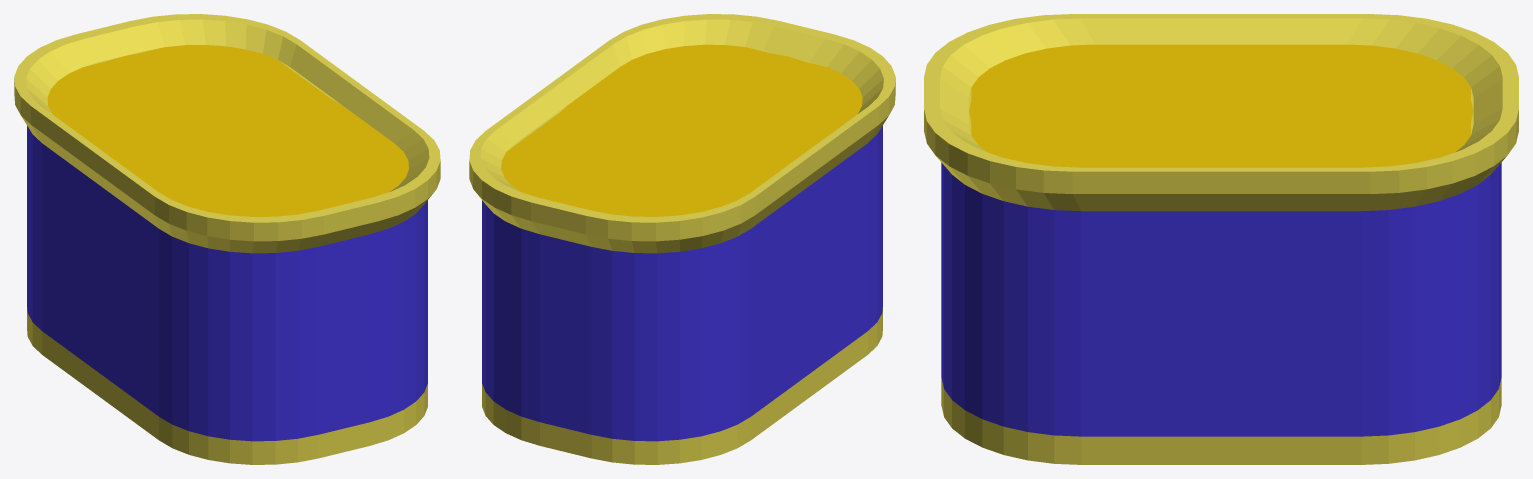
The model's file is Spam Can.fbx.
3 renders of one model, left to right at view 1: azimuth 30°, elevation 25°; view 2: azimuth 150°, elevation 25°; view 3: azimuth 270°, elevation 25°, orthographic. The views are drawn at different scales.
Parts seen in each view (by area): view 1: Spam Can; view 2: Spam Can; view 3: Spam Can.
Part boxes in pixels (x1,y1,x2,y2): Spam Can: (14,14,440,464); Spam Can: (469,14,895,464); Spam Can: (924,14,1518,464).
Size of the model in its own units: 267 by 235 by 425.
